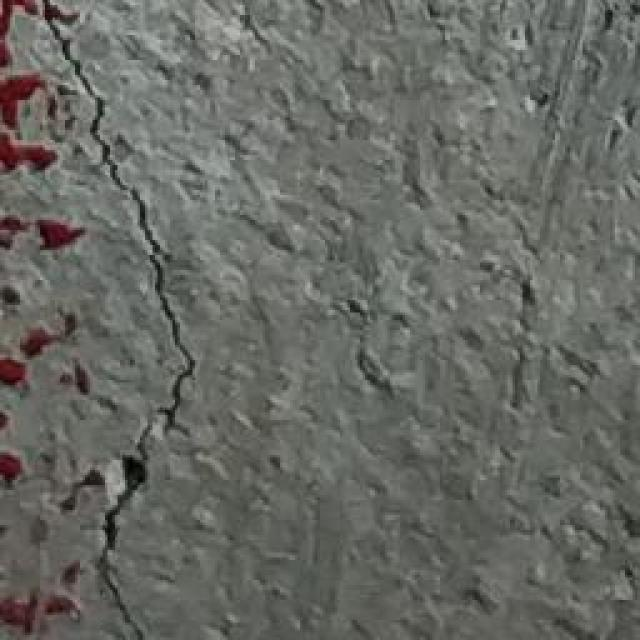Longitudinal: (74, 0, 234, 640)
Rippled: (0, 0, 72, 640)
